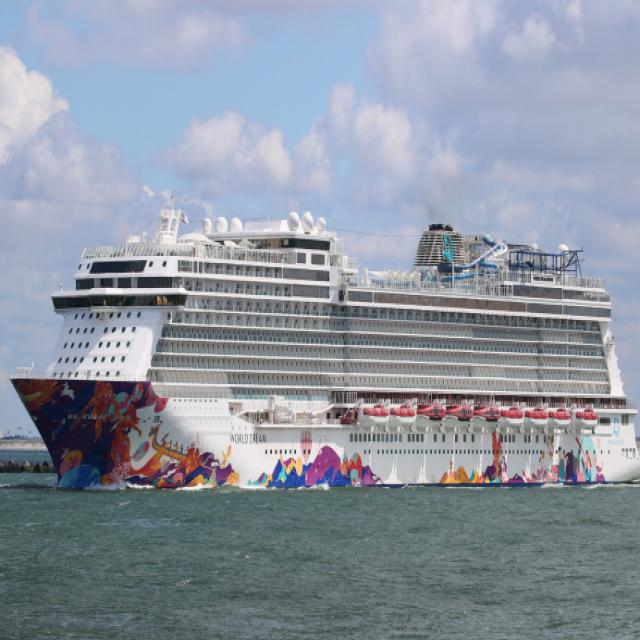cruises: (7, 203, 640, 500)
